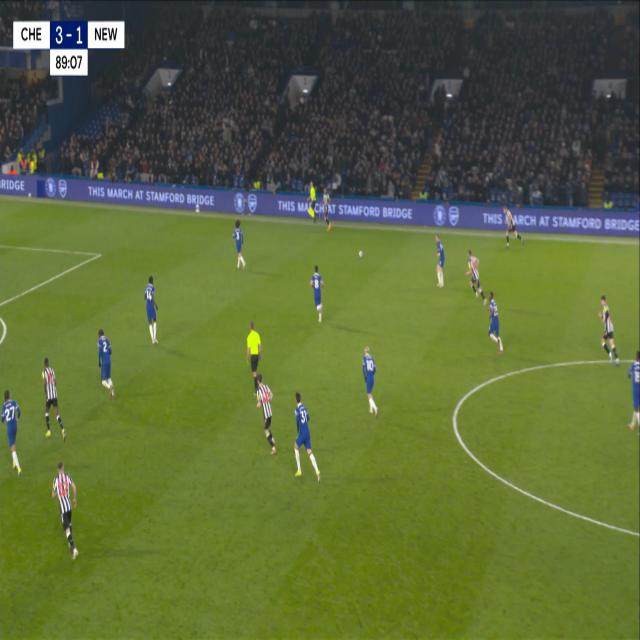Ball: (358, 248, 363, 259)
Chelsea: (289, 386, 323, 486), (0, 384, 25, 478), (94, 323, 117, 402), (359, 340, 381, 420), (145, 270, 161, 350), (486, 293, 506, 357), (626, 347, 640, 428), (309, 262, 325, 329), (230, 215, 248, 272), (430, 230, 446, 293)
New castle: (50, 458, 81, 564), (39, 353, 68, 447), (252, 368, 279, 460), (596, 287, 621, 368), (500, 200, 526, 252), (466, 248, 489, 305), (320, 187, 332, 233)
Refree: (244, 316, 264, 396)
